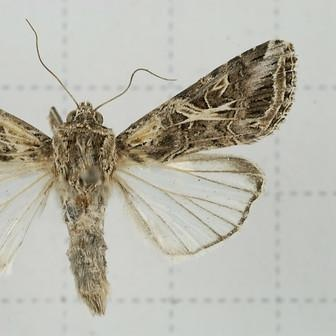Spodoptera litura: (0, 18, 298, 317)
